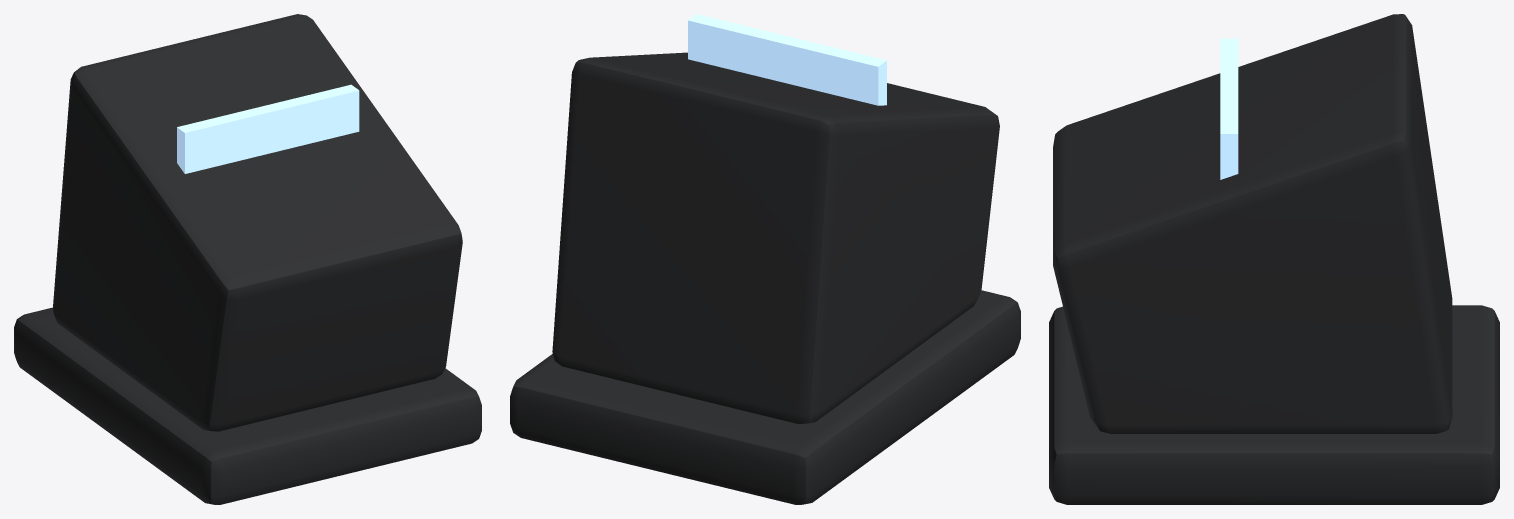
The model's file is prop_card_terminal.glb.
3 views of the same model, side by side, from view 1: azimuth 30°, elevation 25°; view 2: azimuth 150°, elevation 25°; view 3: azimuth 270°, elevation 25° (orthographic). The views are drawn at different scales.
Visible parts, largest first — view 1: Terminal; view 2: Terminal; view 3: Terminal.
Part boxes in pixels (x1,y1,x2,y2): Terminal: (14,14,481,504); Terminal: (510,14,1020,504); Terminal: (1049,14,1499,504).
Size of the model in its own units: 0.08 by 0.0886 by 0.1.
